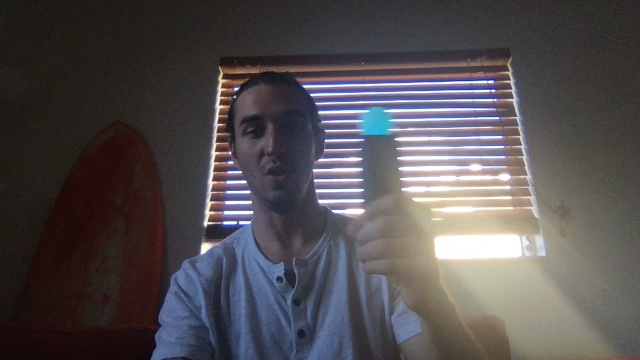wand: (361, 107, 392, 136)
